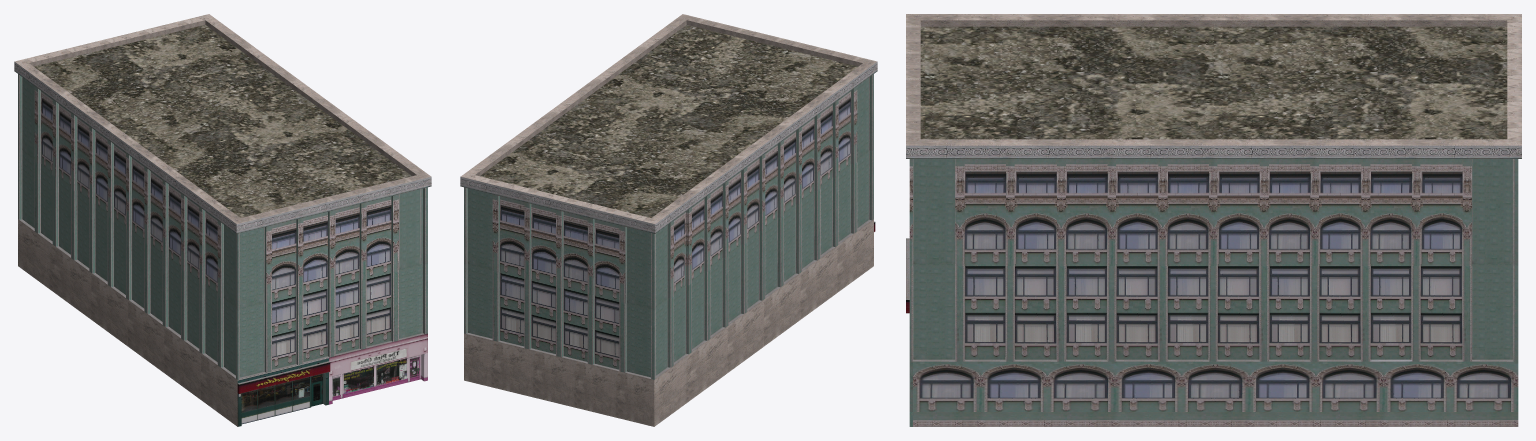
The model's file is smallshop_17_sfs01.obj.
3 renders of one model, left to right at view 1: azimuth 30°, elevation 25°; view 2: azimuth 150°, elevation 25°; view 3: azimuth 270°, elevation 25°, orthographic. The views are drawn at different scales.
Parts seen in each view (by area): view 1: smallshop_17_SFS01; view 2: smallshop_17_SFS01; view 3: smallshop_17_SFS01.
Boxes of the visible parts, <box> form: smallshop_17_SFS01: <box>14,14,431,426</box>; smallshop_17_SFS01: <box>460,14,877,426</box>; smallshop_17_SFS01: <box>906,14,1521,426</box>.
Size of the model in its own units: 25.96 by 26.01 by 51.32.
Materials: 8 (8 with a texture image).
